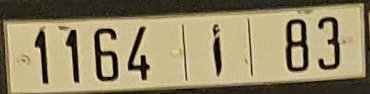1: (63, 28, 81, 84), (33, 28, 50, 85)
3: (316, 16, 341, 71)
4: (125, 25, 151, 81)
6: (92, 27, 120, 82)
8: (284, 17, 309, 73)
a: (209, 23, 224, 77)
